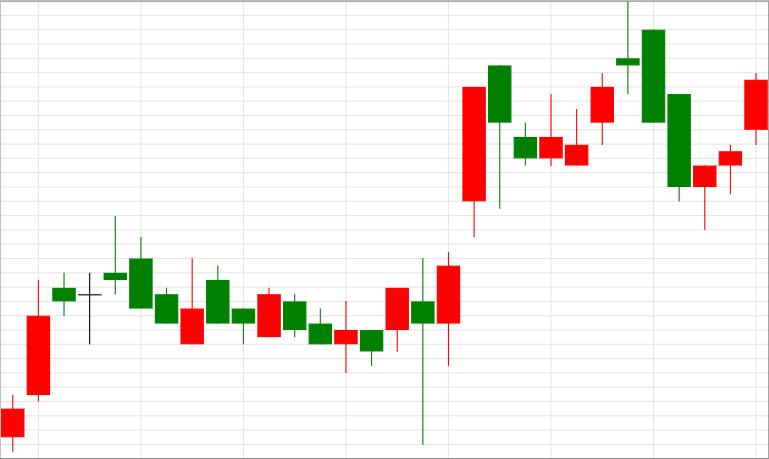inverse_hammer_rise: (104, 215, 204, 345)
